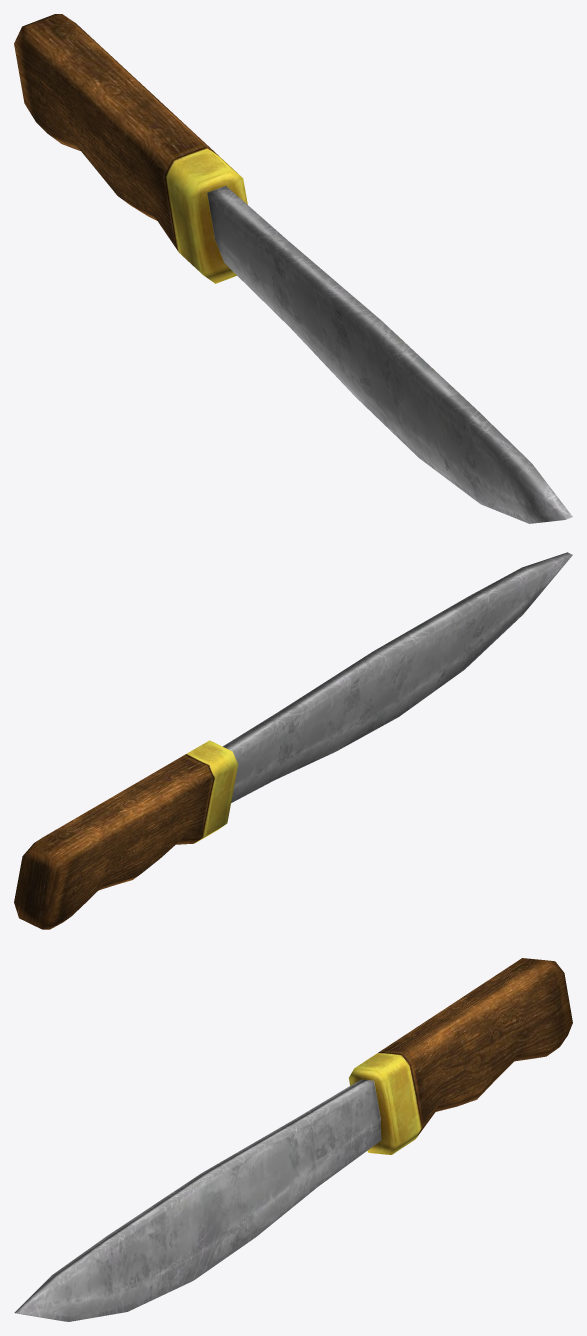
Rendered from knife-base.glb.
The picture shows the model from 3 angles, top to bottom: view 1: azimuth 30°, elevation 25°; view 2: azimuth 150°, elevation 25°; view 3: azimuth 330°, elevation 25°; orthographic projection. The views are drawn at different scales.
Size of the model in its own units: 0.0742 by 0.0761 by 0.6492.
Materials: 1 (1 with a texture image).
